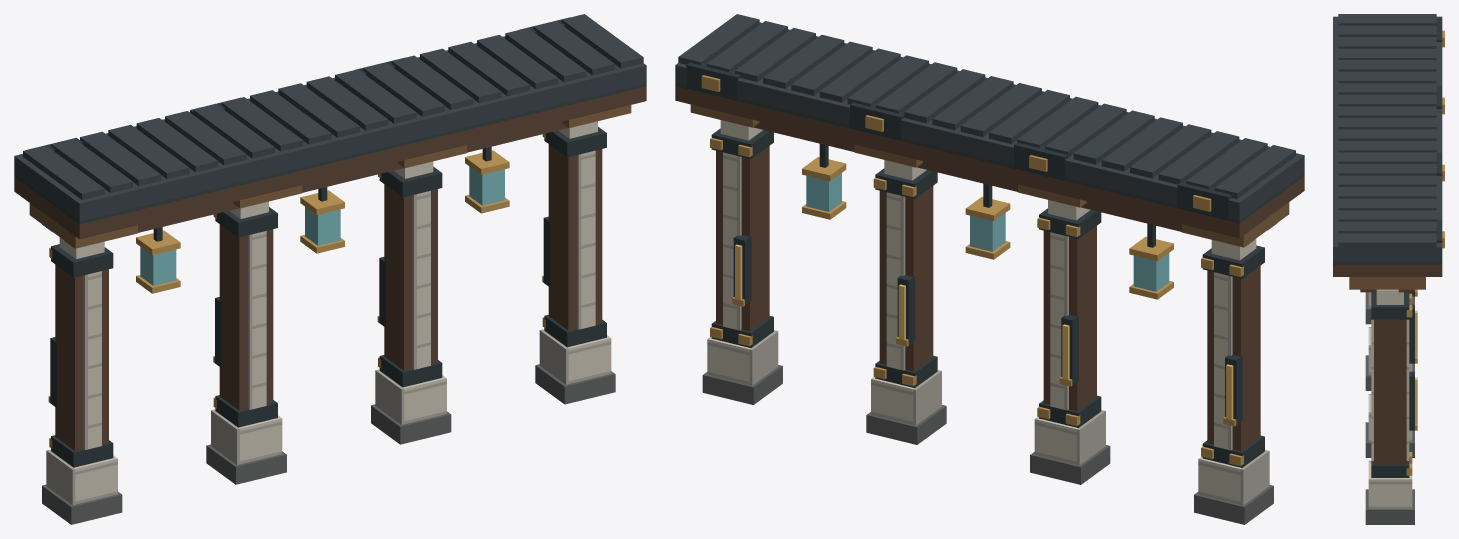
The model's file is BUILT-108.glb.
3 renders of one model, left to right at view 1: azimuth 30°, elevation 25°; view 2: azimuth 150°, elevation 25°; view 3: azimuth 270°, elevation 25°, orthographic. The views are drawn at different scales.
Visible parts, largest first — view 1: 旧官署书院巡警署门前柱廊; view 2: 旧官署书院巡警署门前柱廊; view 3: 旧官署书院巡警署门前柱廊.
Boxes of the visible parts, x1=… form: 旧官署书院巡警署门前柱廊: x1=14, y1=14, x2=646, y2=524; 旧官署书院巡警署门前柱廊: x1=675, y1=14, x2=1304, y2=524; 旧官署书院巡警署门前柱廊: x1=1333, y1=14, x2=1444, y2=524.
Bounding box in the file's own units: 8 × 4.64 × 1.64.
11 materials, 11 textured.
